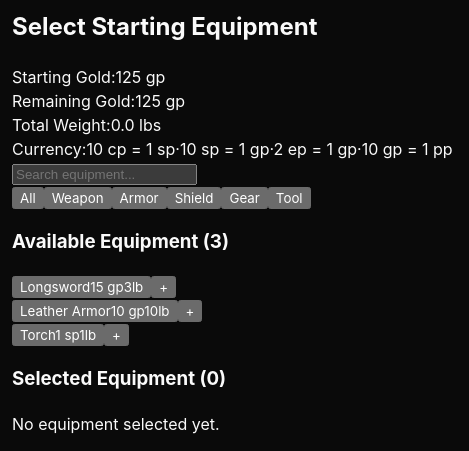
EquipmentSelectionStep › category filter › clicking Weapon category button shows only weapons
The image size is (469, 451).
Check: the text "Longsword" is shown, box x1=20 y1=279 x2=90 y2=295
Click the button "Weapon".
click(78, 198)  # box x1=44 y1=187 x2=112 y2=209
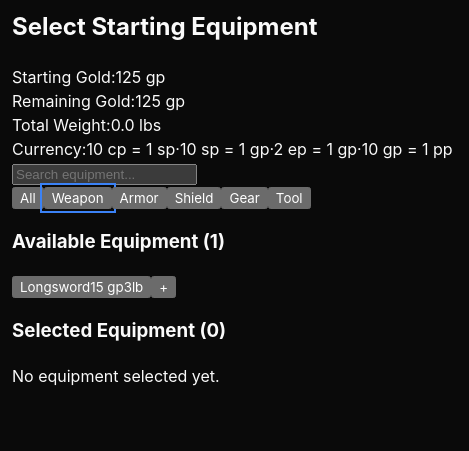
Check: the text "Longsword" is shown, box x1=20 y1=279 x2=90 y2=295
Check: the button "Leather Armor" is gone
